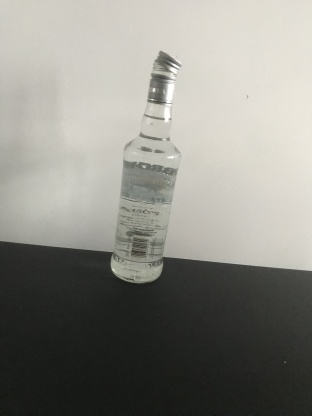nakretka: (146, 48, 182, 107)
